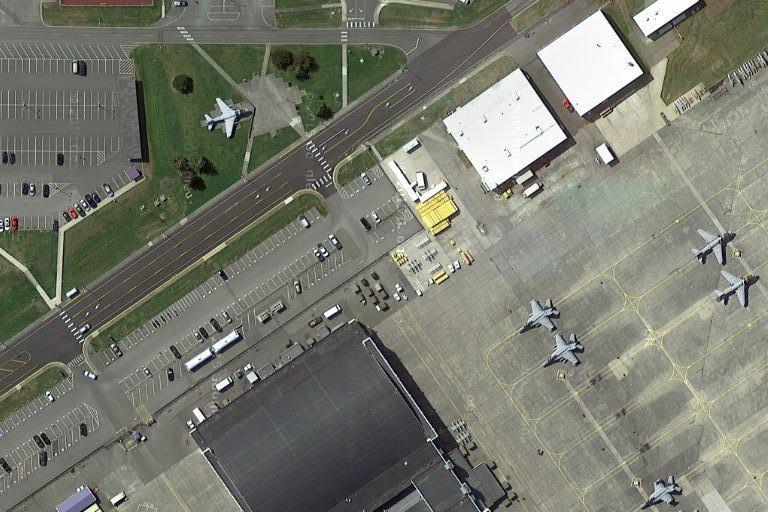F/A-18: (516, 294, 564, 336), (542, 328, 587, 370), (638, 474, 685, 509)
plane: (708, 268, 761, 310), (688, 226, 740, 267)
